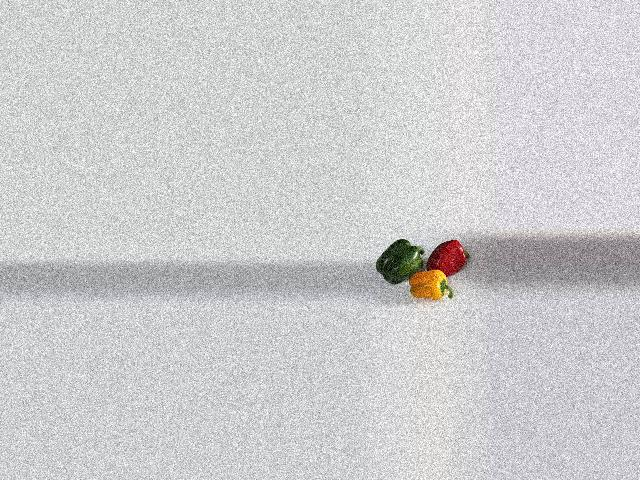bell_pepper: (408, 263, 453, 303)
